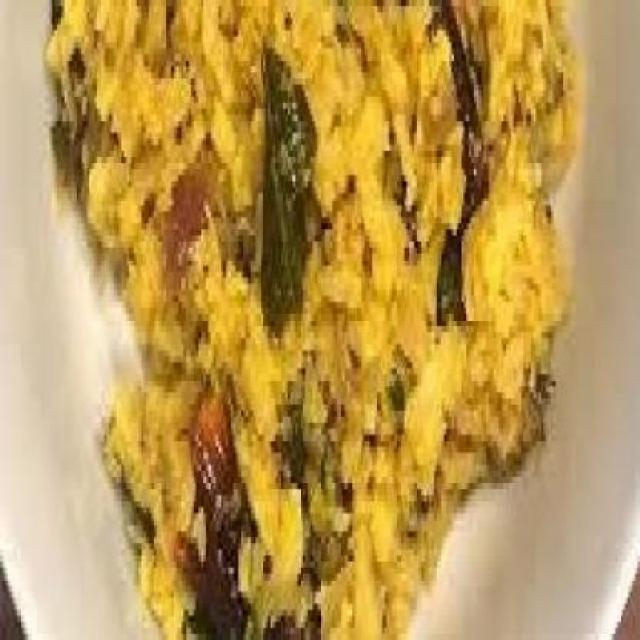poha: (43, 0, 580, 640)
